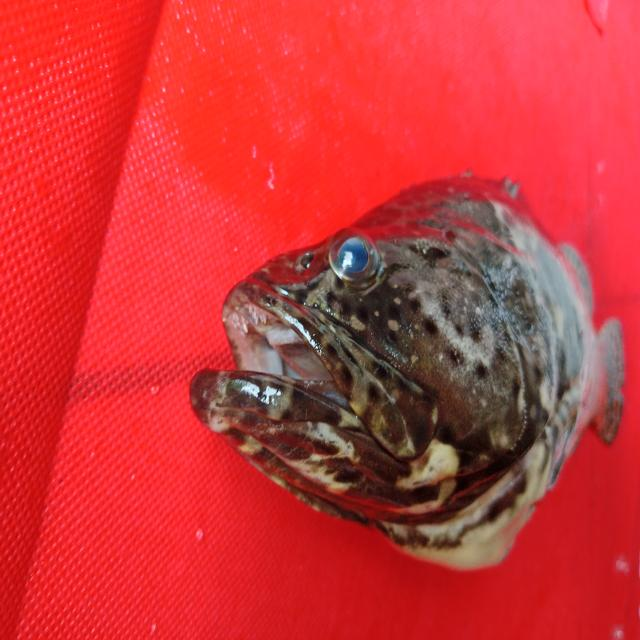ikan: (173, 141, 635, 585)
